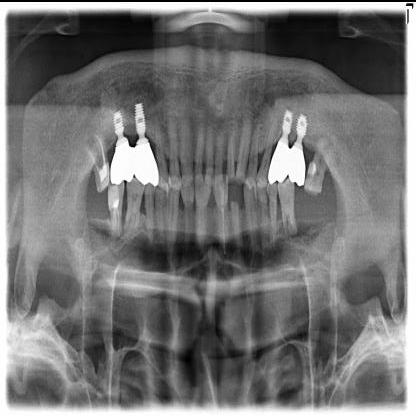Bicon: (110, 102, 126, 144), (132, 99, 148, 141), (279, 104, 294, 139), (297, 110, 308, 144)
